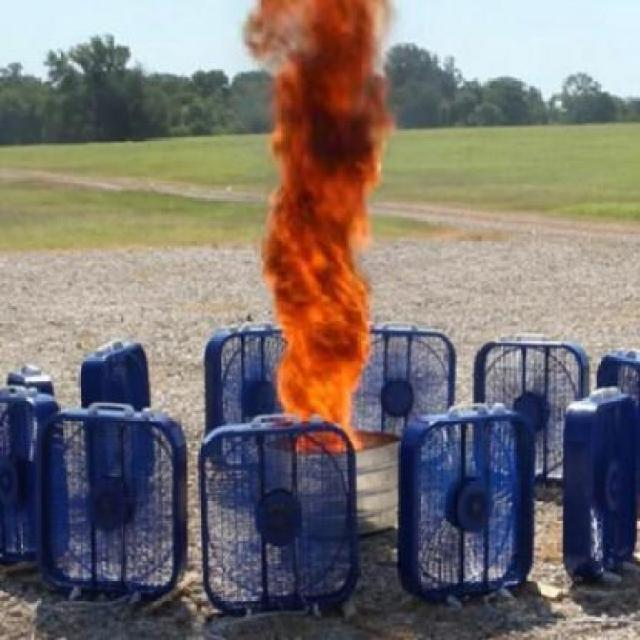Fire: (246, 0, 394, 469)
